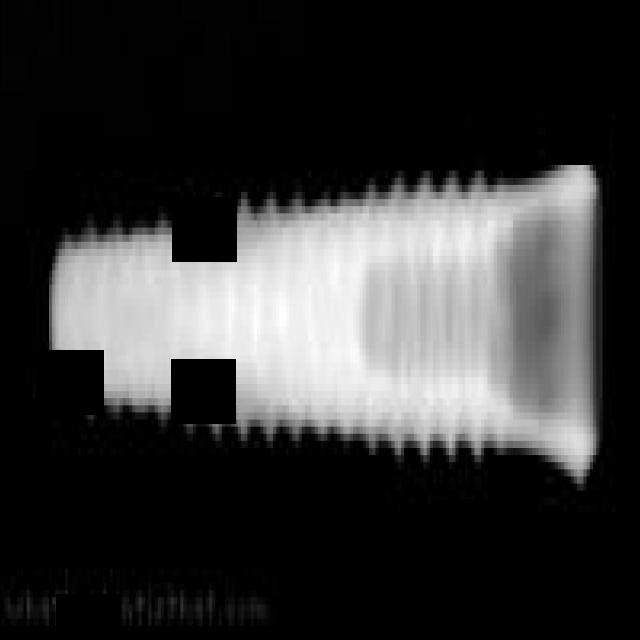Titan Implant Implant: (45, 142, 598, 484)
